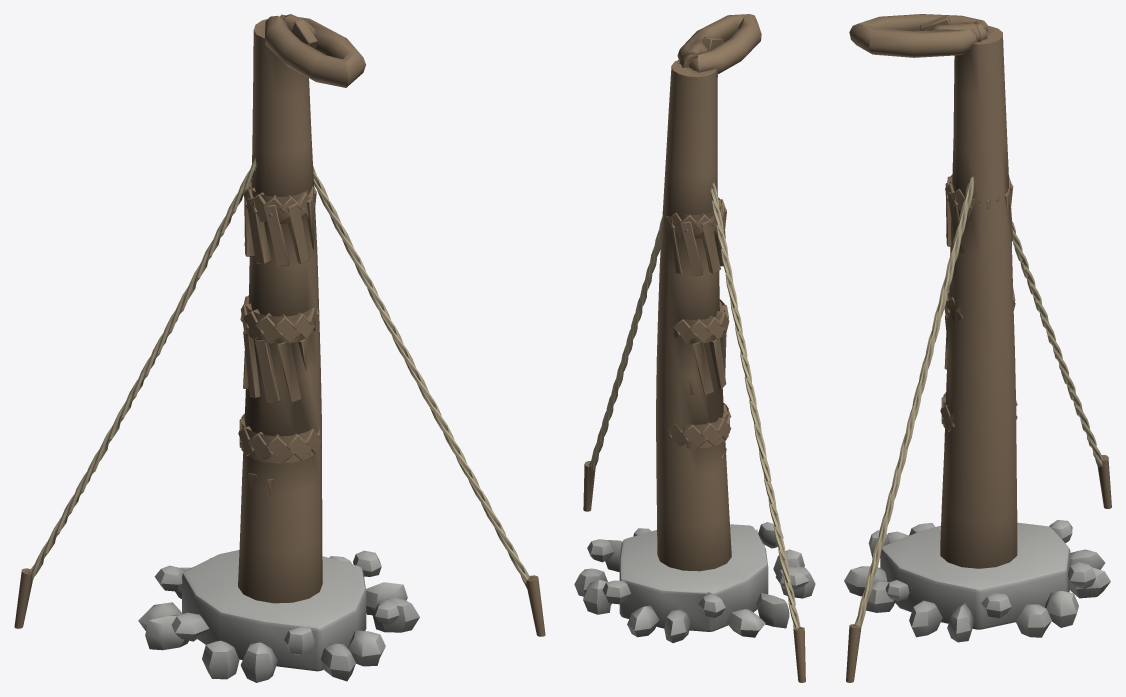
File: berk_totem.glb
The picture shows the model from 3 angles, left to right: view 1: azimuth 30°, elevation 25°; view 2: azimuth 150°, elevation 25°; view 3: azimuth 270°, elevation 25°; orthographic projection. The views are drawn at different scales.
Parts seen in each view (by area): view 1: berk_totem; view 2: berk_totem; view 3: berk_totem.
Boxes of the visible parts, x1,y1,x2,y2 form: berk_totem: (14,14,545,682); berk_totem: (574,14,815,682); berk_totem: (844,14,1111,682).
Bounding box in the file's own units: 3.06 × 4.65 × 1.95.
